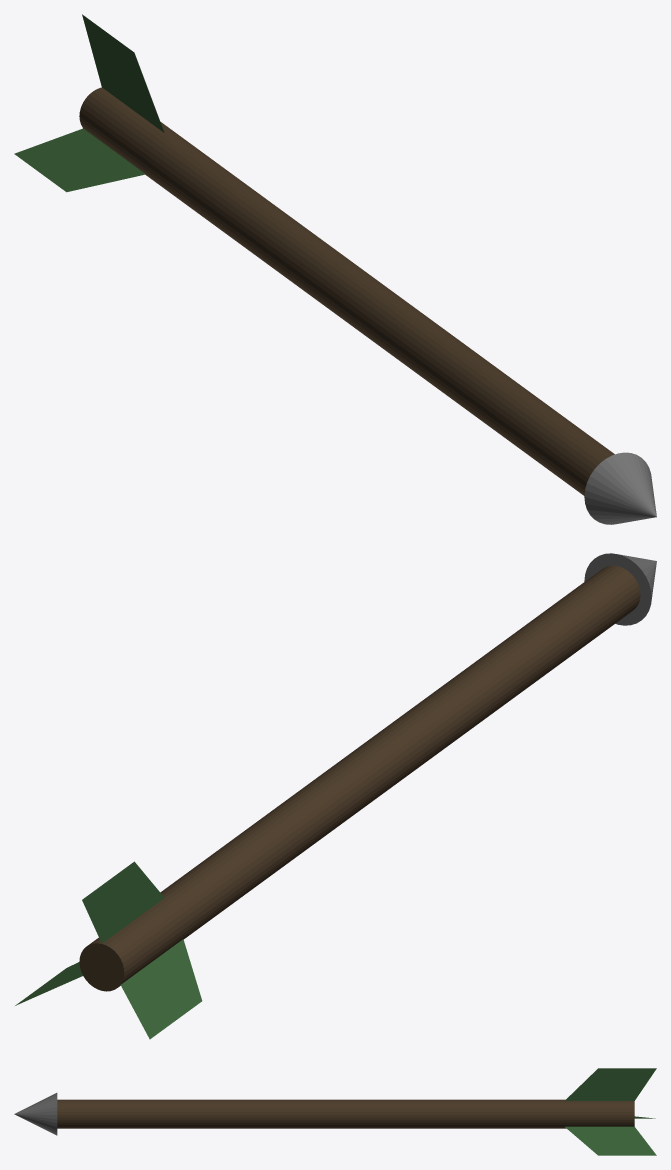
Rendered from arrow.glb.
The picture shows the model from 3 angles, top to bottom: view 1: azimuth 30°, elevation 25°; view 2: azimuth 150°, elevation 25°; view 3: azimuth 270°, elevation 25°; orthographic projection. The views are drawn at different scales.
Visible parts, largest first — view 1: shaft, fletching, arrowhead; view 2: shaft, fletching, arrowhead; view 3: shaft, fletching, arrowhead.
Part boxes in pixels (x1,y1,x2,y2): shaft: [79, 87, 614, 495]; fletching: [14, 14, 164, 192]; arrowhead: [584, 452, 656, 524]; shaft: [79, 565, 640, 991]; fletching: [15, 861, 202, 1039]; arrowhead: [584, 553, 656, 625]; shaft: [57, 1099, 634, 1128]; fletching: [565, 1068, 656, 1155]; arrowhead: [14, 1093, 57, 1135].
Size of the model in its own units: 3.02 by 2.62 by 22.17.
